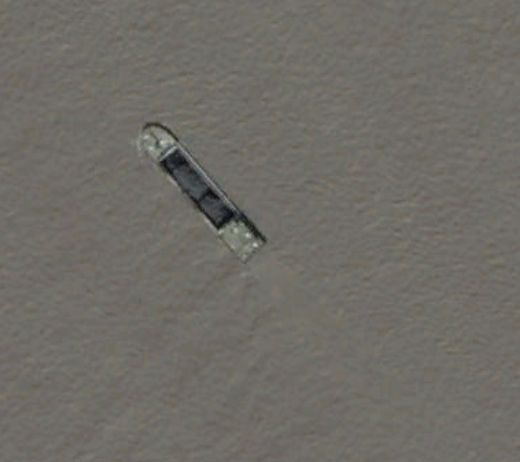boat: (137, 121, 268, 266)
